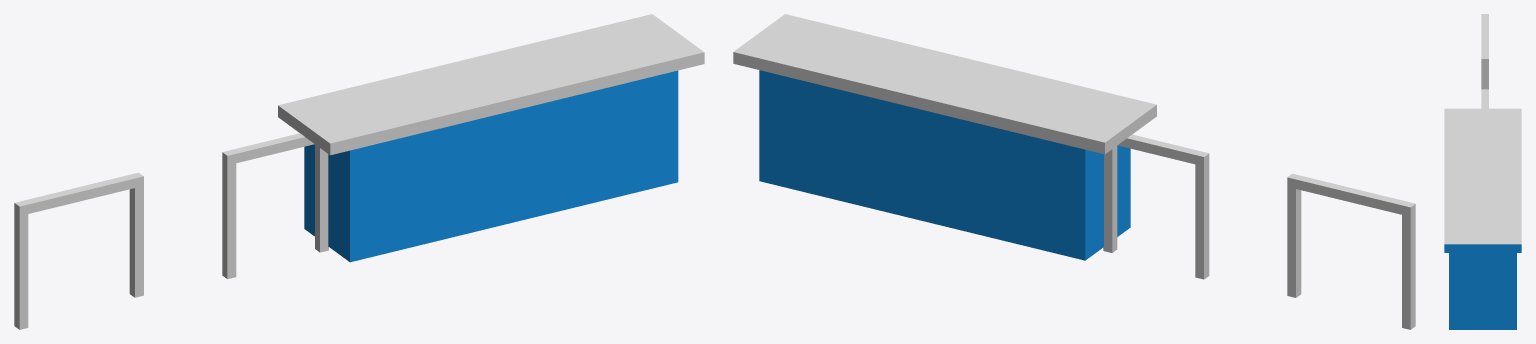
The model's file is arcade table.fbx.
3 renders of one model, left to right at view 1: azimuth 30°, elevation 25°; view 2: azimuth 150°, elevation 25°; view 3: azimuth 270°, elevation 25°, orthographic. The views are drawn at different scales.
Parts seen in each view (by area): view 1: Cube.039, Cube.041, Cube.040; view 2: Cube.039, Cube.041, Cube.040; view 3: Cube.039, Cube.041, Cube.040.
Part boxes in pixels (left/top/right/bottom): Cube.039: left=278, top=14, right=704, bottom=262; Cube.041: left=14, top=172, right=143, bottom=329; Cube.040: left=222, top=133, right=328, bottom=279; Cube.039: left=733, top=14, right=1156, bottom=260; Cube.041: left=1287, top=173, right=1415, bottom=329; Cube.040: left=1103, top=134, right=1209, bottom=279; Cube.039: left=1444, top=108, right=1521, bottom=329; Cube.041: left=1481, top=14, right=1488, bottom=89; Cube.040: left=1481, top=89, right=1488, bottom=108.
Bounding box in the file's own units: 1663 × 325 × 228.
